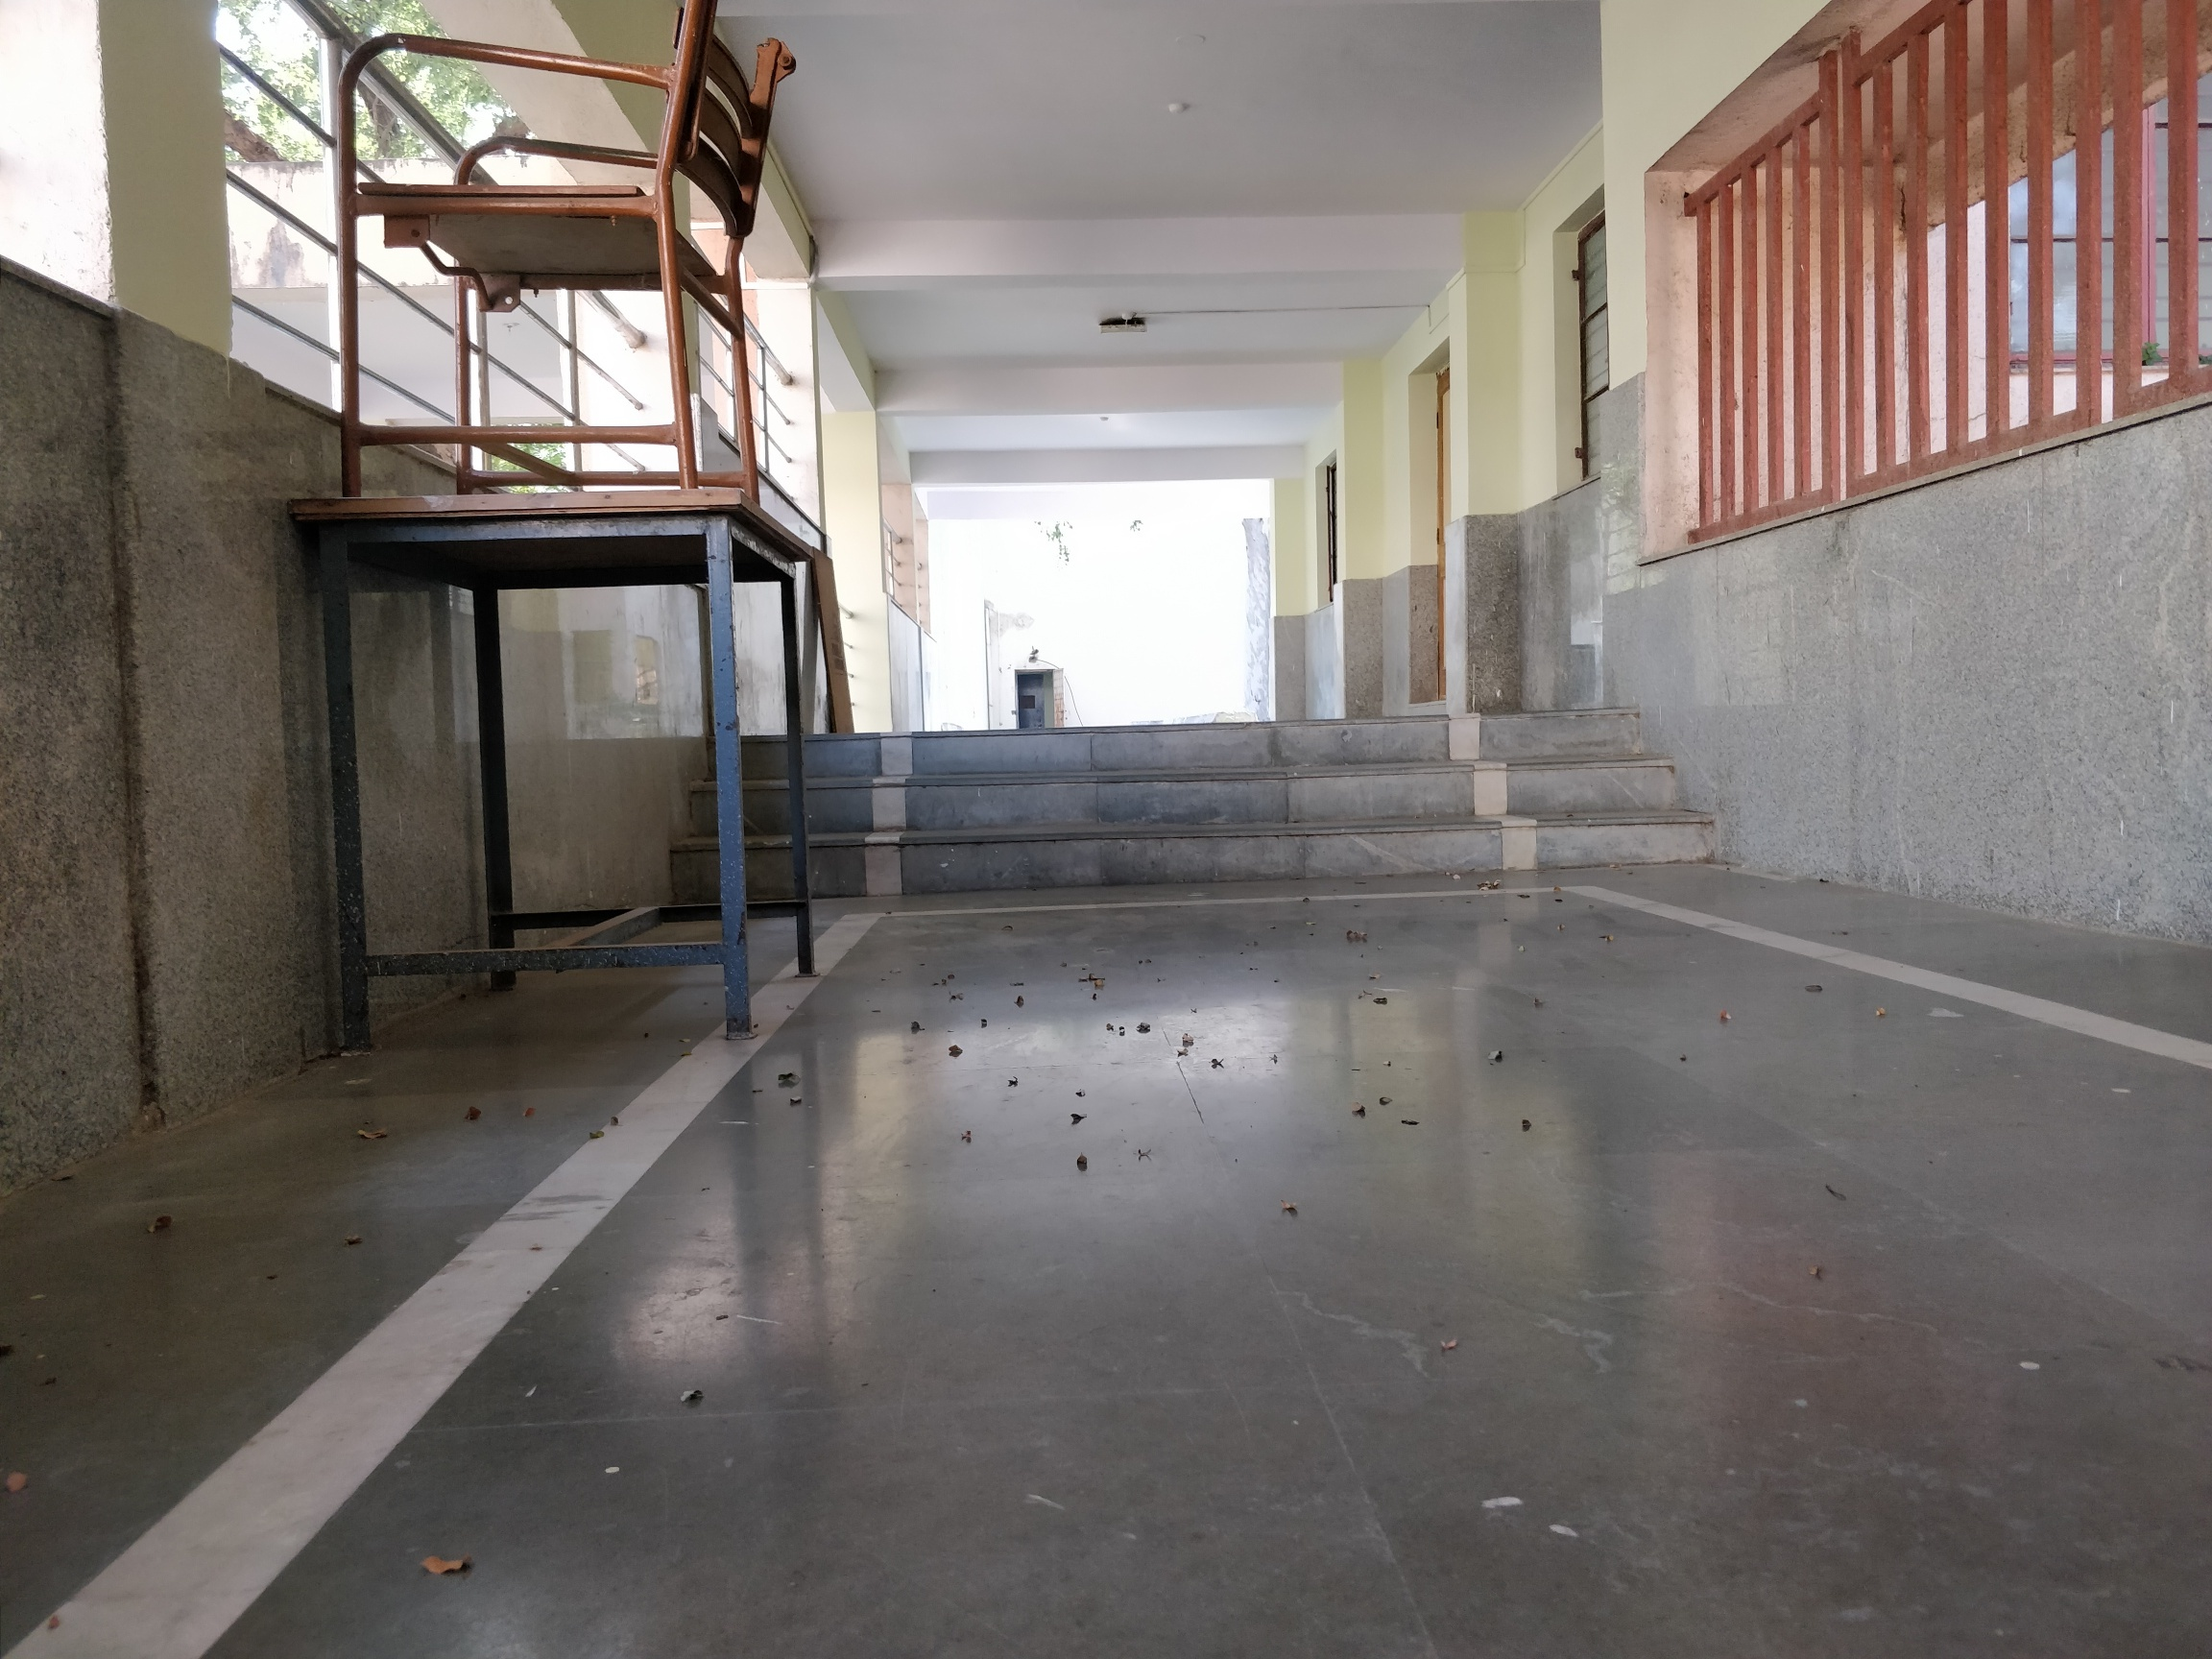stairs_up: (662, 720, 1737, 906)
